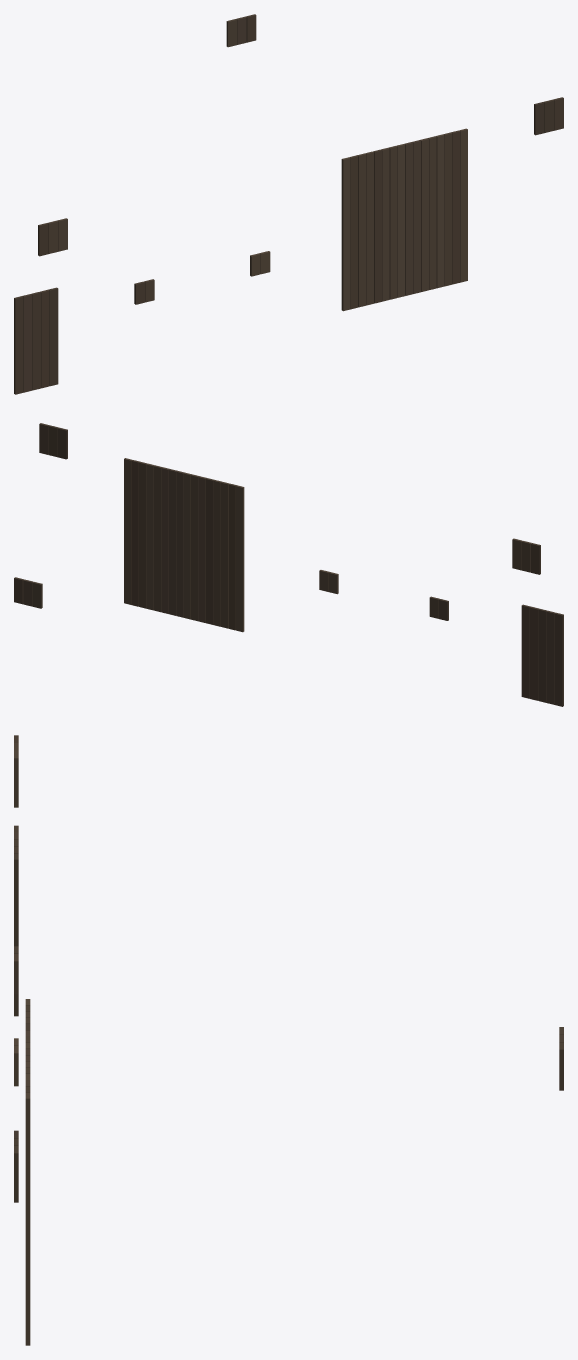
Rendered from SM_Bld_002_Wood.glb.
3 views of the same model, one above another, from view 1: azimuth 30°, elevation 25°; view 2: azimuth 150°, elevation 25°; view 3: azimuth 270°, elevation 25° (orthographic). The views are drawn at different scales.
Parts seen in each view (by area): view 1: SM_Bld_002_Wood; view 2: SM_Bld_002_Wood; view 3: SM_Bld_002_Wood.
Part boxes in pixels (left/top/right/bottom): SM_Bld_002_Wood: left=14, top=14, right=563, bottom=394; SM_Bld_002_Wood: left=14, top=423, right=563, bottom=706; SM_Bld_002_Wood: left=14, top=735, right=563, bottom=1345.
Size of the model in its own units: 11.38 by 3.23 by 6.05.
